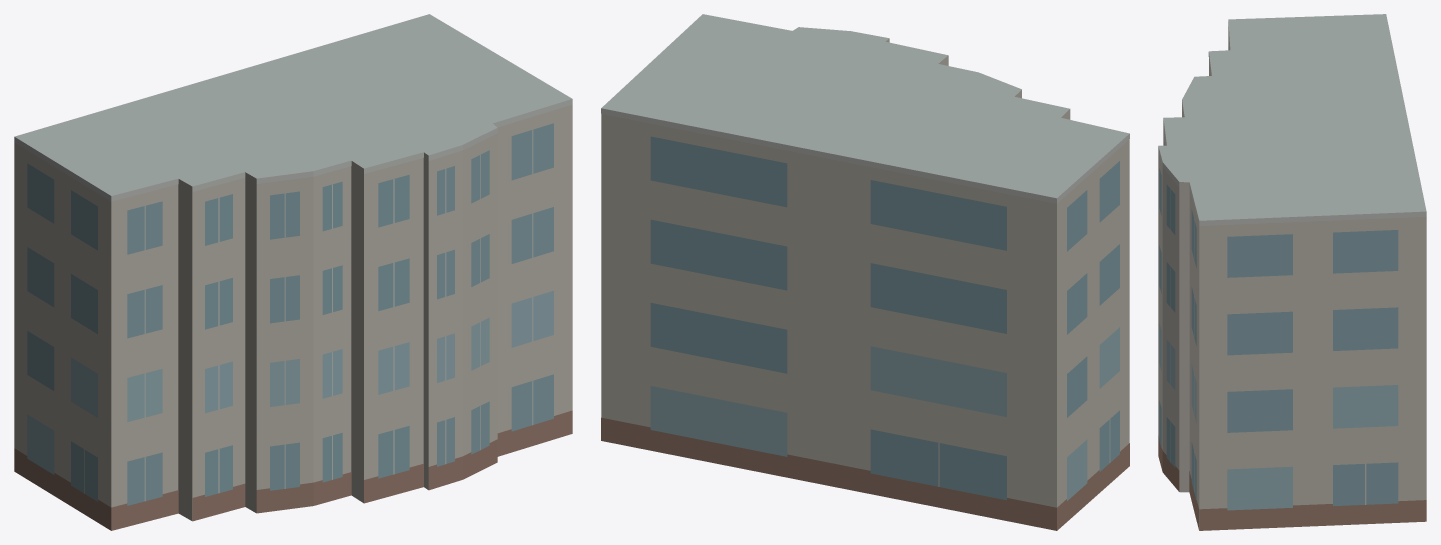
Rendered from survey-upis-32778013.glb.
3 views of the same model, side by side, from view 1: azimuth 30°, elevation 25°; view 2: azimuth 150°, elevation 25°; view 3: azimuth 270°, elevation 25° (orthographic). The views are drawn at different scales.
Parts seen in each view (by area): view 1: survey-upis-32778013.tmp; view 2: survey-upis-32778013.tmp; view 3: survey-upis-32778013.tmp.
Boxes of the visible parts, x1,y1,x2,y2 form: survey-upis-32778013.tmp: [14, 14, 572, 530]; survey-upis-32778013.tmp: [601, 14, 1129, 530]; survey-upis-32778013.tmp: [1158, 14, 1426, 530].
Bounding box in the file's own units: 21.03 × 14.7 × 11.53.
